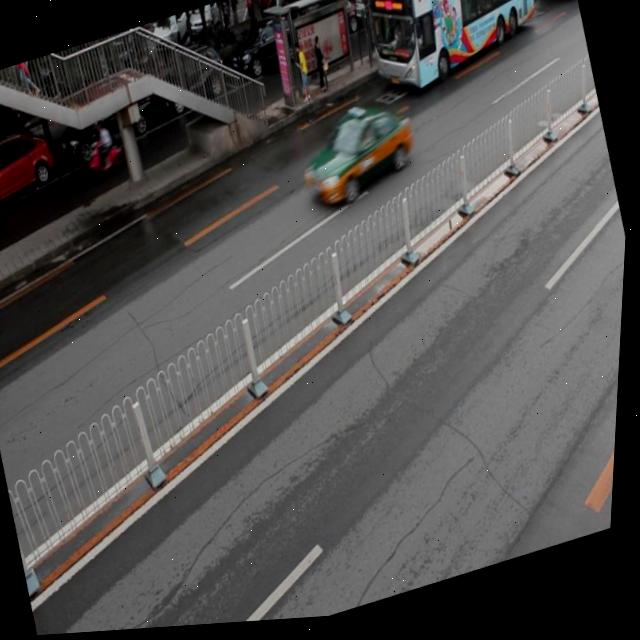car: (292, 95, 425, 219), (55, 80, 162, 169), (222, 12, 310, 88), (0, 125, 66, 220), (157, 44, 232, 120)
van: (346, 0, 555, 105), (521, 0, 577, 10)
